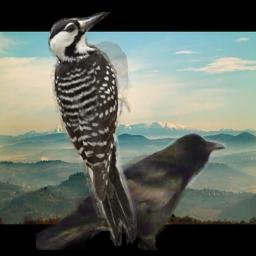Crow: (36, 131, 227, 250)
Woodpecker: (48, 12, 137, 246)
